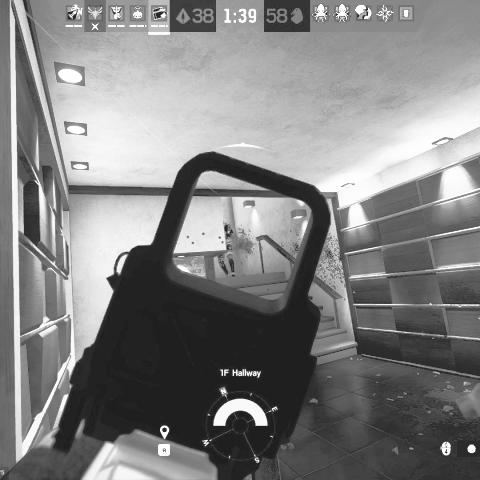Character: (217, 218, 237, 278)
